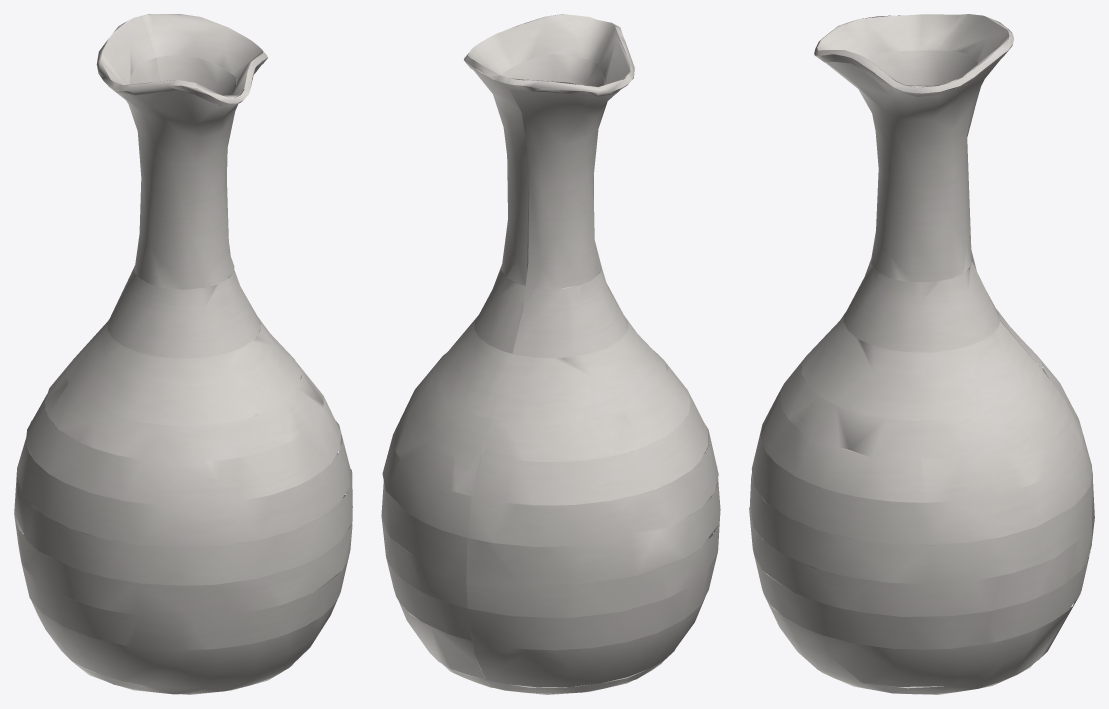
Rendered from ceramic_vase_01.glb.
3 views of the same model, side by side, from view 1: azimuth 30°, elevation 25°; view 2: azimuth 150°, elevation 25°; view 3: azimuth 270°, elevation 25° (orthographic).
Visible parts, largest first — view 1: ceramic_vase_01; view 2: ceramic_vase_01; view 3: ceramic_vase_01.
Boxes of the visible parts, x1,y1,x2,y2 form: ceramic_vase_01: (14,14,352,694); ceramic_vase_01: (381,14,720,694); ceramic_vase_01: (749,14,1094,694).
Bounding box in the file's own units: 0.2047 × 0.4005 × 0.2046.
1 material, 1 textured.
